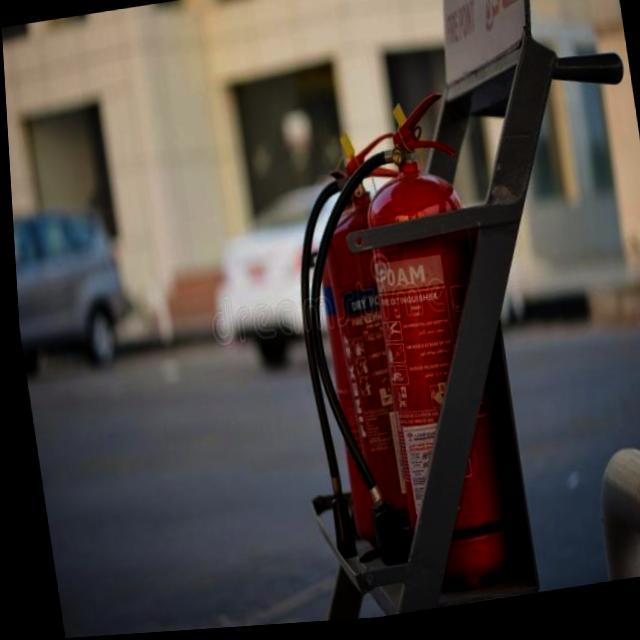FireExtinguisher: (272, 92, 519, 619), (269, 130, 455, 589)
